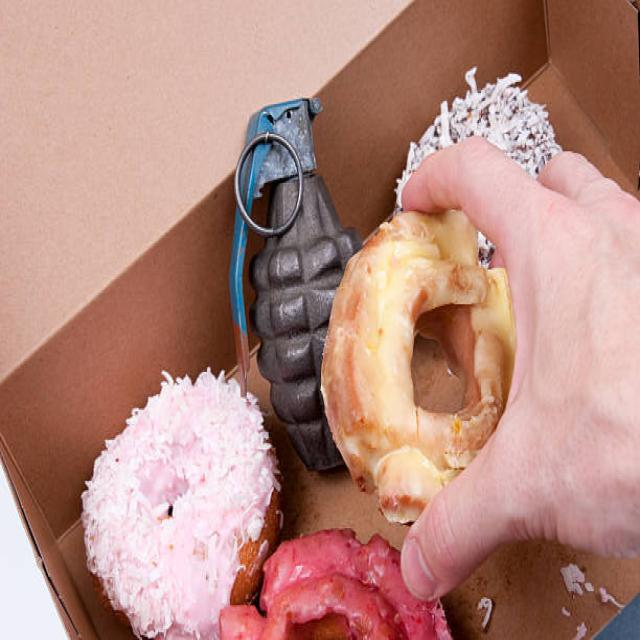grenade: (230, 90, 364, 480)
